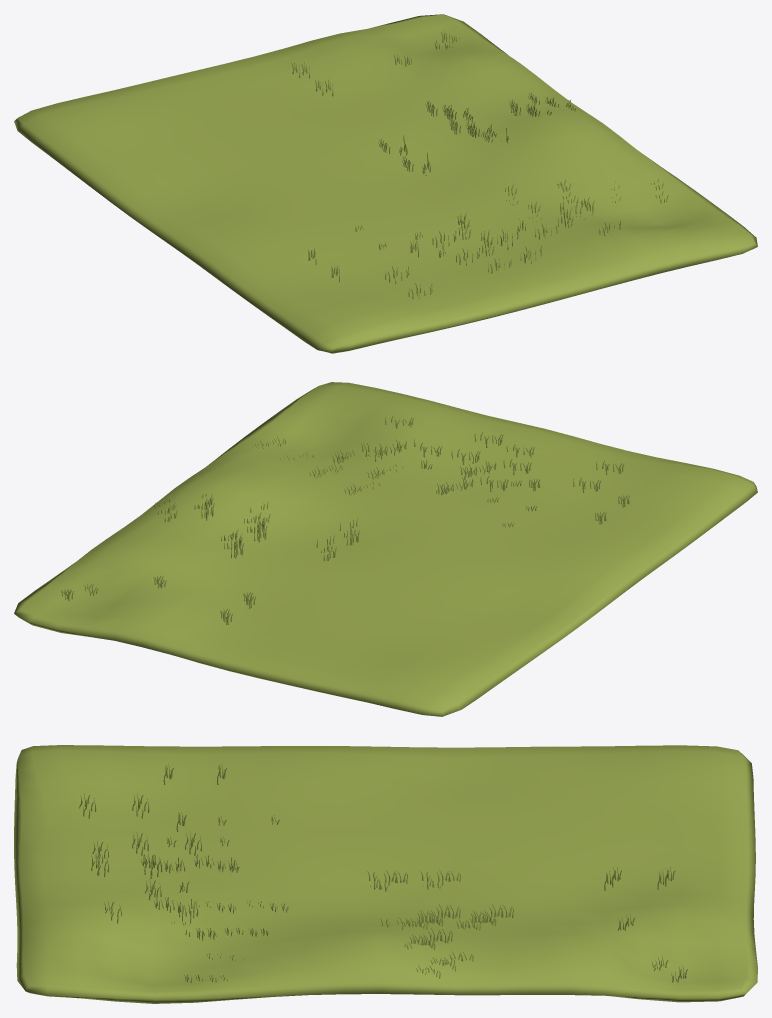
Rendered from PastoOtoño.fbx.
The picture shows the model from 3 angles, top to bottom: view 1: azimuth 30°, elevation 25°; view 2: azimuth 150°, elevation 25°; view 3: azimuth 270°, elevation 25°; orthographic projection. The views are drawn at different scales.
Parts seen in each view (by area): view 1: Plane.005; view 2: Plane.005; view 3: Plane.005.
Boxes of the visible parts, <box> form: Plane.005: <box>14,14,757,353</box>; Plane.005: <box>14,382,757,716</box>; Plane.005: <box>14,745,757,1003</box>.
Size of the model in its own units: 3548 by 353 by 4455.
